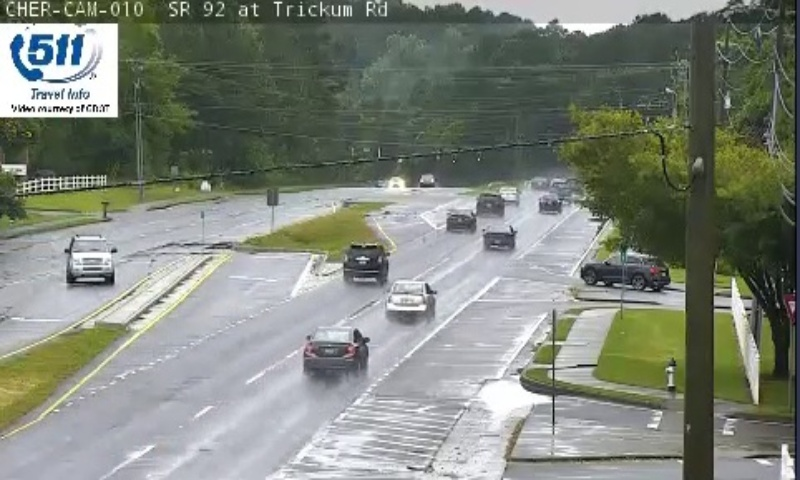car: (303, 326, 368, 373), (385, 280, 434, 320), (343, 241, 388, 277), (482, 221, 514, 249), (476, 191, 504, 216), (446, 207, 476, 230)
